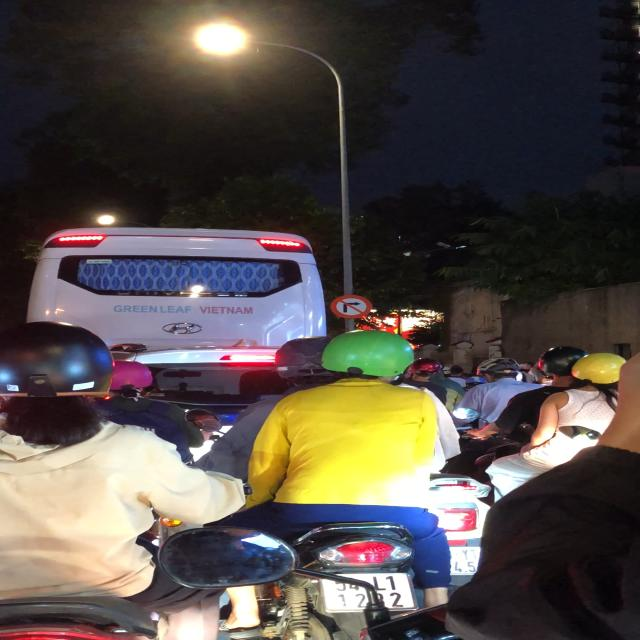Bien bao cam re phai: (325, 290, 378, 321)
